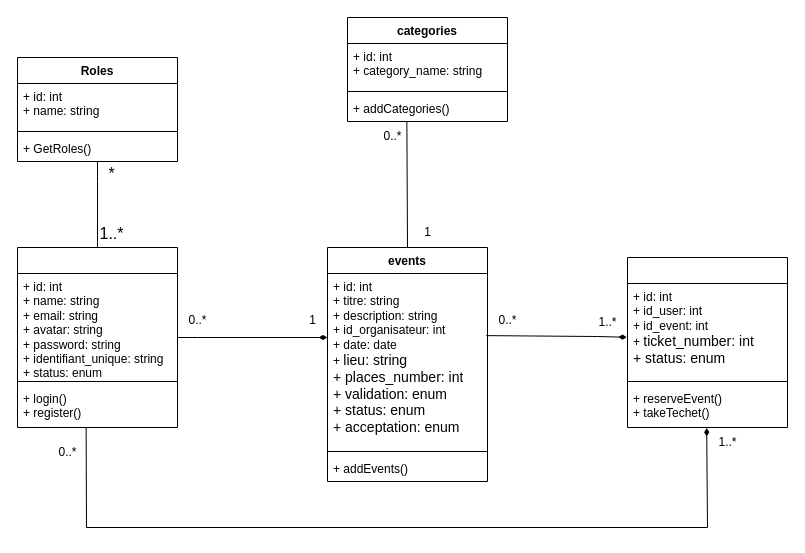
Image size: 805x553. Some labels were removed from this diagram. The shapes that lost their labels are listed below. From the top down, each one's box as (x1, y1, x2, y2) in pixels, then its label:
(16, 246, 178, 428): users
(626, 256, 788, 428): reservations
